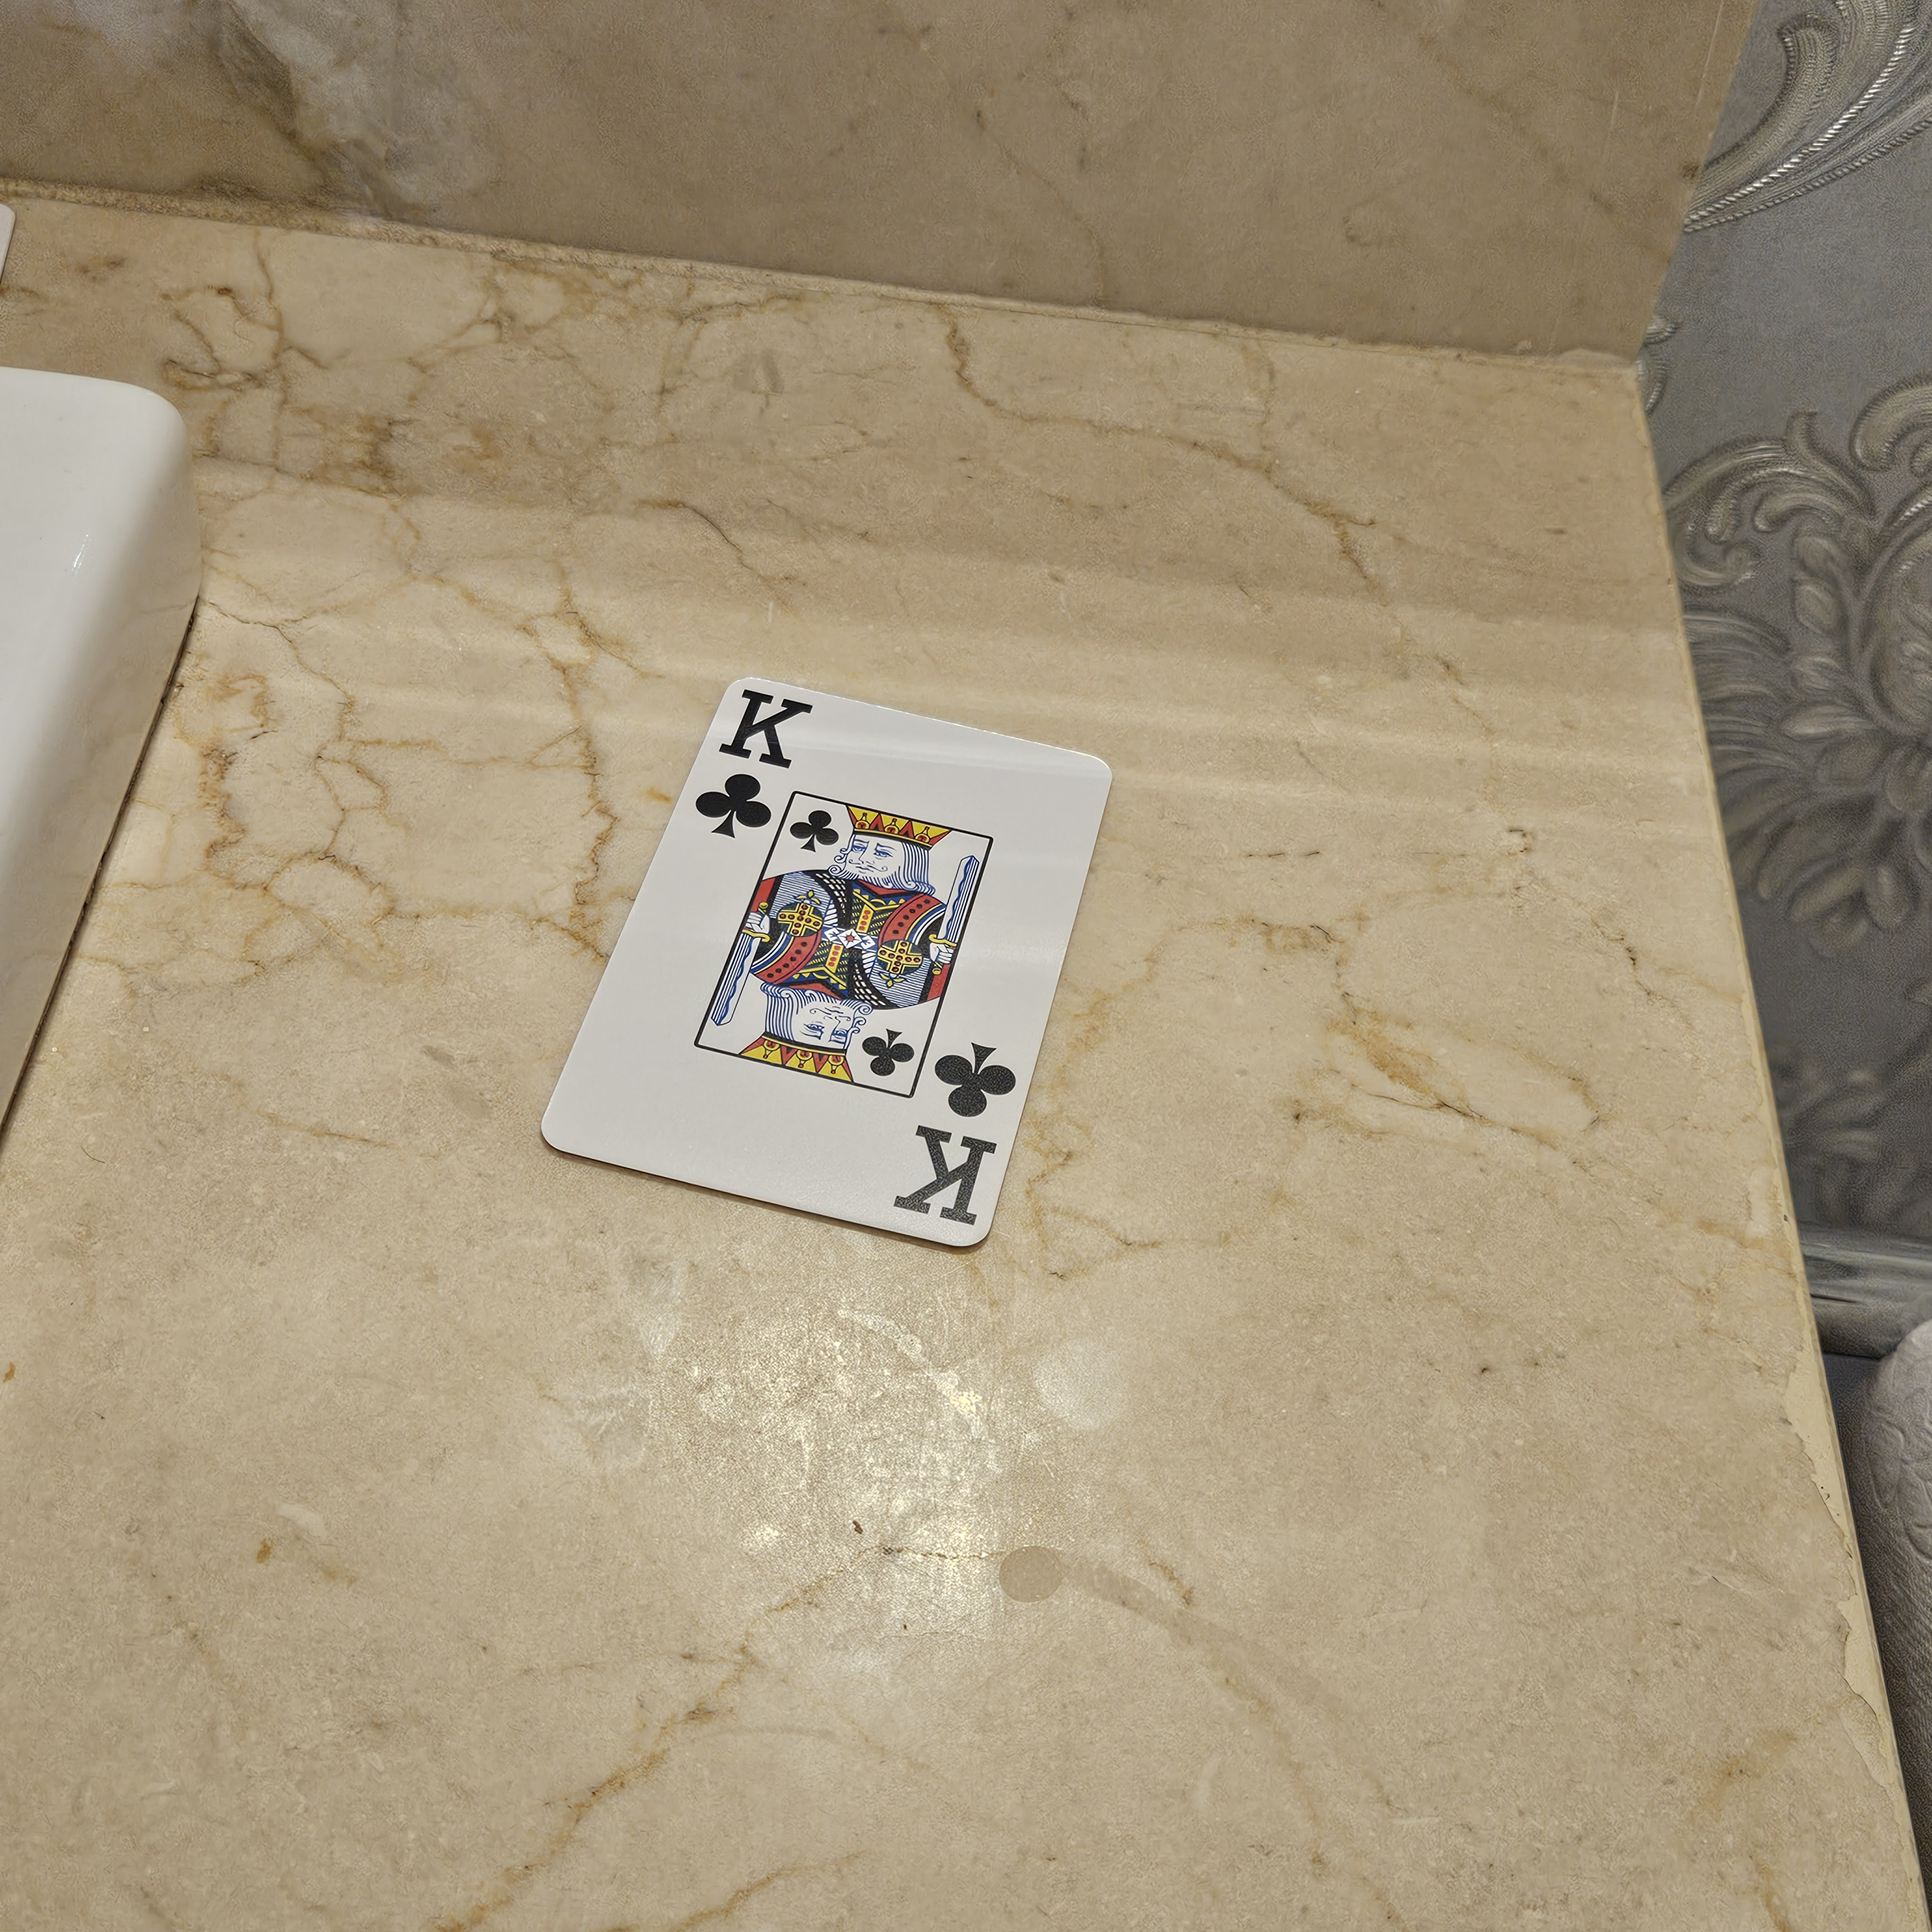KP: (885, 1014, 1024, 1233), (676, 676, 816, 842)
